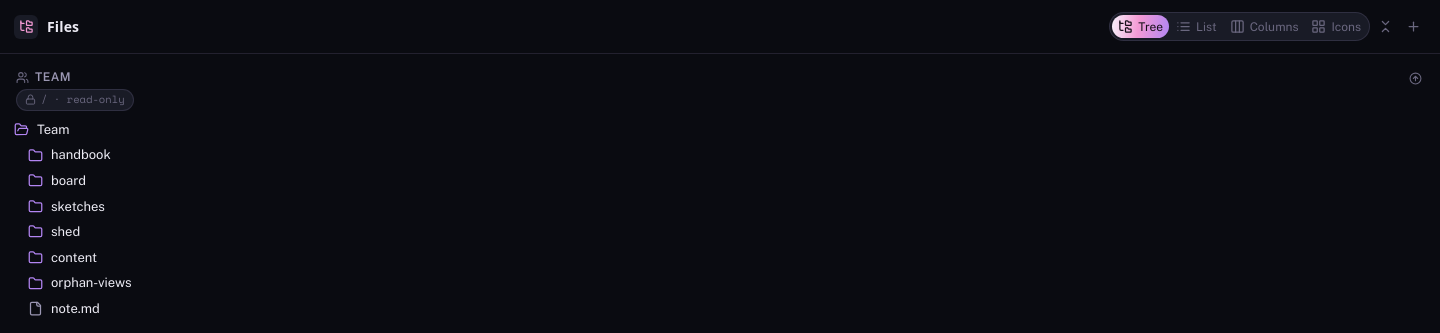
Test: R3-159 — a launchable marker ALSO gets the into-stage affordance › a launch refusal (forbidden) leaves BOTH affordances in place — no launch code withdraws
Right-click the text "board" at (68,180), box [51,173,86,188]
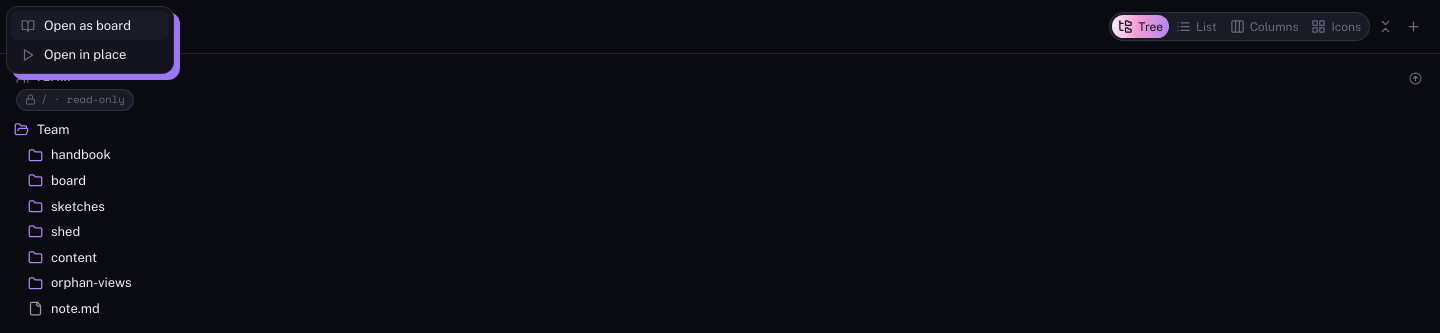
Click the menu item "Open in place" at (90,54), box [11,40,169,69]
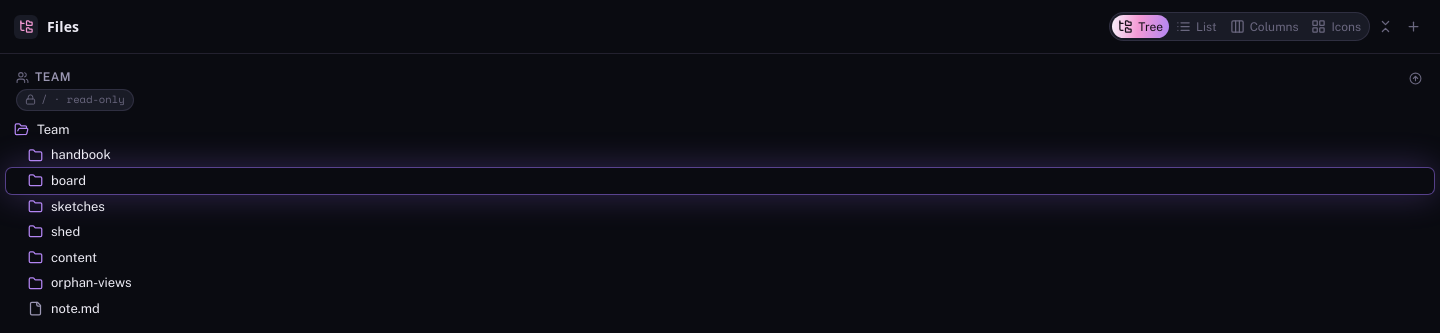
Right-click the text "board" at (68,180), box [51,173,86,188]
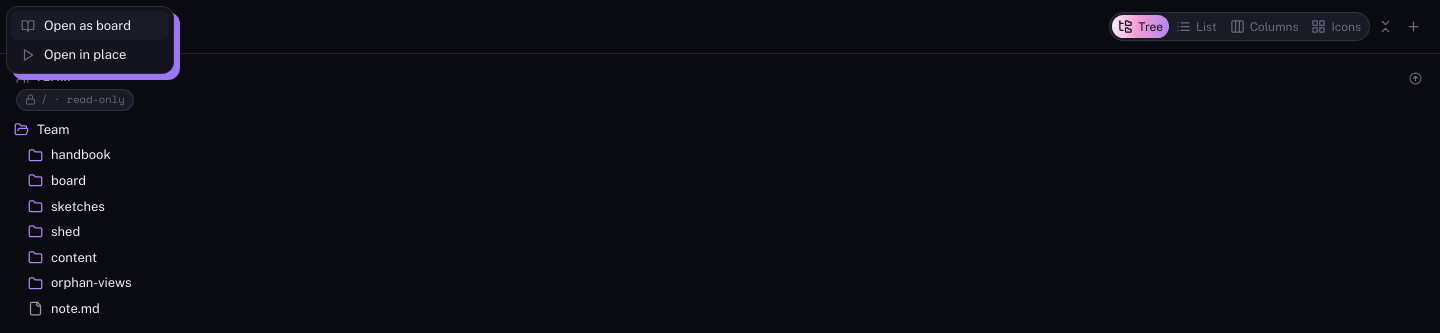
Expected: the text "Open in place" is shown, [44,47,126,62]
Expected: the text "Open as board" is shown, [44,18,131,33]
